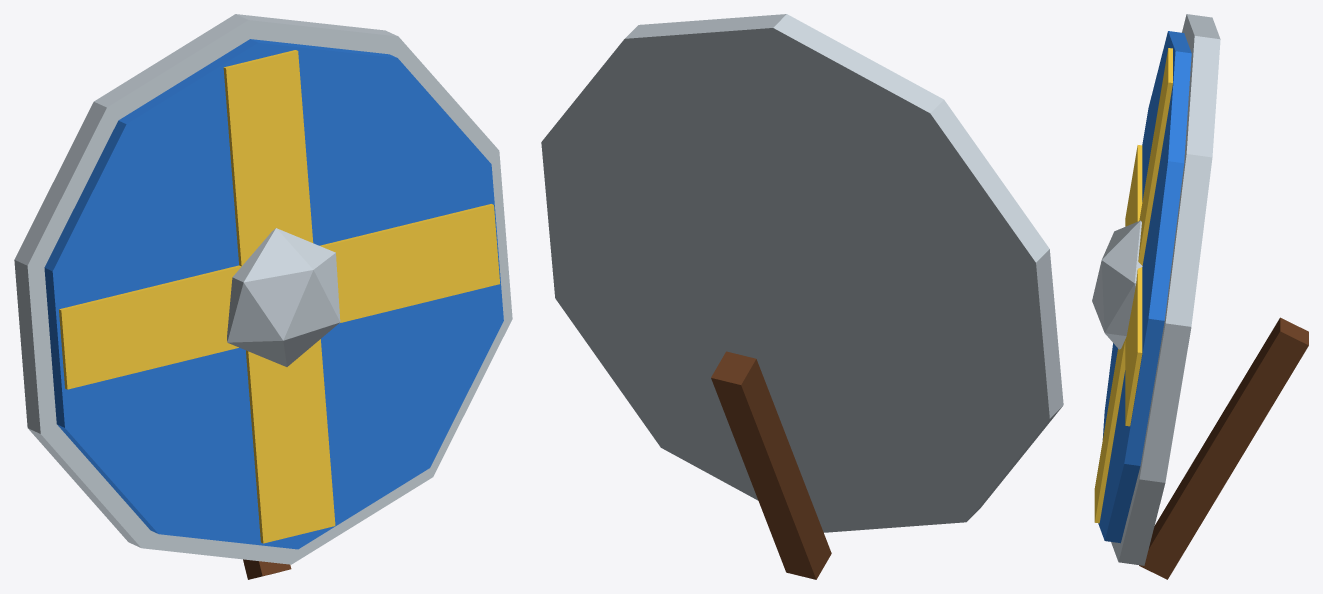
File: Shield.fbx
The picture shows the model from 3 angles, left to right: view 1: azimuth 30°, elevation 25°; view 2: azimuth 150°, elevation 25°; view 3: azimuth 270°, elevation 25°; orthographic projection. The views are drawn at different scales.
Visible parts, largest first — view 1: Shield; view 2: Shield; view 3: Shield.
Boxes of the visible parts, box(x1,y1,x2,y2) form: Shield: box(14, 14, 512, 579); Shield: box(541, 14, 1063, 579); Shield: box(1092, 14, 1308, 579).
Bounding box in the file's own units: 4.91 × 5.43 × 1.99.
Materials: 1 (1 with a texture image).
